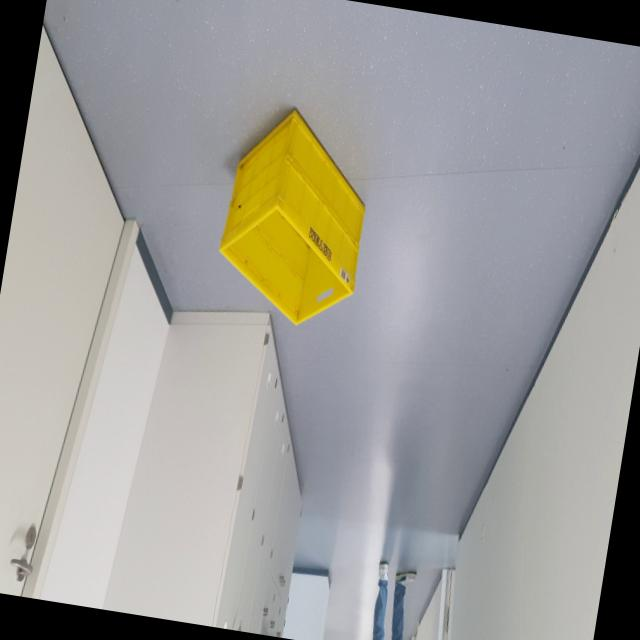box: (193, 90, 390, 357)
